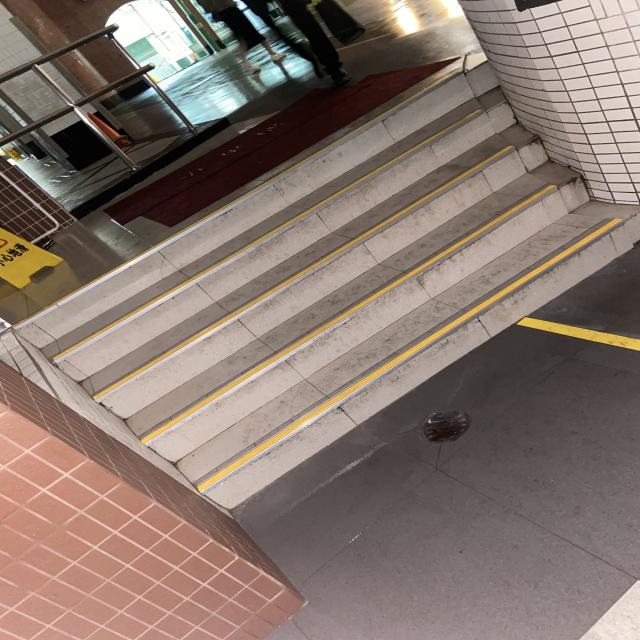Stairs: (0, 35, 640, 497)
